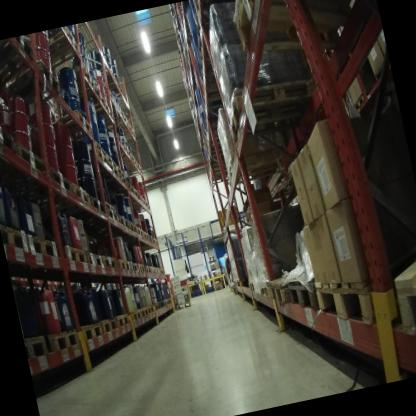pallet: (227, 0, 374, 69), (222, 70, 323, 141), (312, 265, 387, 337), (221, 141, 299, 195), (0, 53, 66, 108), (189, 5, 250, 64), (385, 233, 416, 347), (16, 163, 74, 205), (36, 24, 85, 73), (45, 106, 96, 146), (0, 34, 39, 86), (284, 269, 320, 321), (25, 223, 64, 267), (40, 325, 86, 361), (56, 57, 98, 95), (0, 211, 31, 259), (267, 273, 306, 311), (12, 134, 44, 172), (22, 327, 50, 366), (60, 237, 89, 272), (0, 99, 17, 157), (73, 86, 106, 114), (66, 72, 96, 98), (78, 317, 105, 342), (89, 191, 109, 222), (88, 103, 115, 124), (72, 180, 92, 208), (85, 137, 107, 161), (350, 89, 368, 118), (258, 275, 274, 307), (99, 247, 120, 271), (100, 314, 120, 338), (88, 148, 108, 172), (100, 65, 119, 90), (116, 306, 134, 330), (116, 252, 132, 276), (85, 246, 103, 267), (106, 206, 123, 228), (104, 83, 125, 100), (174, 298, 194, 315), (101, 89, 118, 108), (129, 304, 143, 327), (127, 252, 140, 276), (132, 200, 151, 215), (119, 211, 131, 234), (128, 215, 140, 235), (114, 130, 125, 151), (106, 159, 118, 178), (117, 172, 129, 191), (122, 106, 132, 128), (105, 196, 117, 213), (106, 150, 117, 168), (136, 222, 146, 241), (126, 179, 136, 198), (135, 257, 146, 274), (115, 162, 126, 179), (115, 101, 125, 119), (142, 227, 152, 245), (139, 303, 150, 319), (122, 141, 132, 158), (128, 120, 136, 137), (147, 301, 156, 316), (134, 187, 142, 202), (143, 262, 152, 275), (148, 263, 157, 276), (130, 152, 137, 168), (153, 299, 161, 313), (149, 231, 156, 247), (158, 299, 166, 312), (153, 235, 160, 249), (137, 163, 144, 175), (168, 297, 174, 306), (160, 266, 166, 275), (141, 196, 147, 204), (164, 298, 169, 307)
